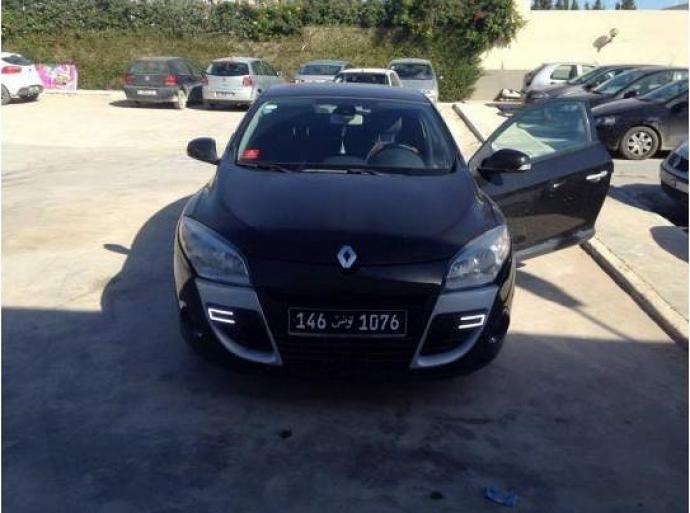LP: (285, 303, 410, 341)
